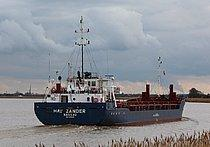Ship: (27, 10, 191, 130)
